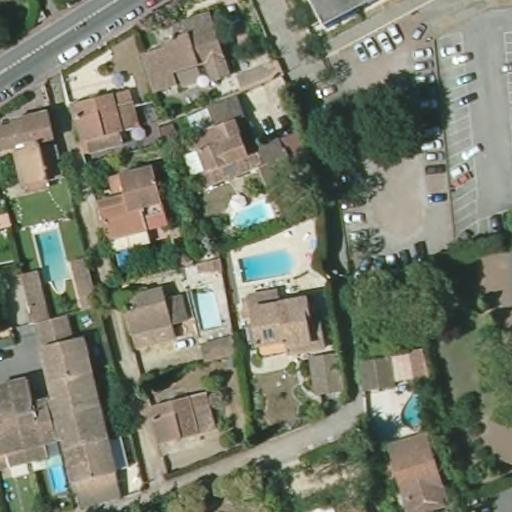pool: (24, 217, 76, 295), (232, 248, 303, 283), (222, 198, 280, 233), (39, 448, 74, 498), (400, 384, 432, 428)
